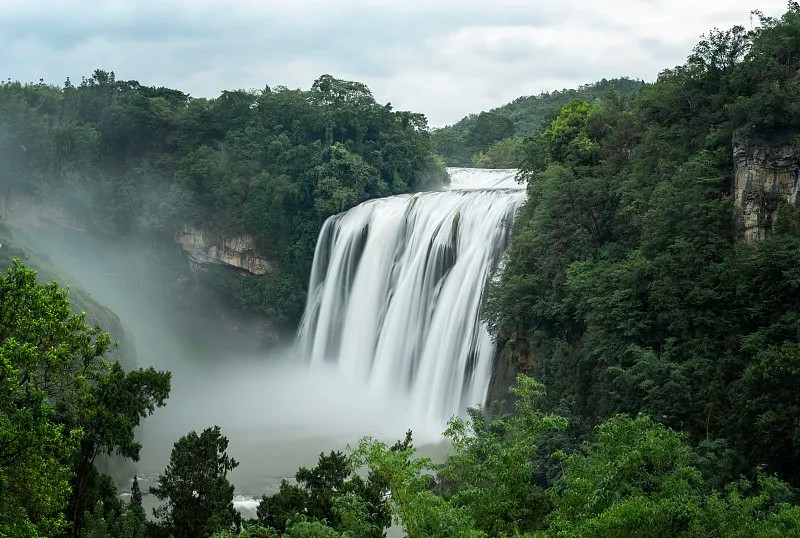Huangguoshu: (300, 168, 529, 437)
